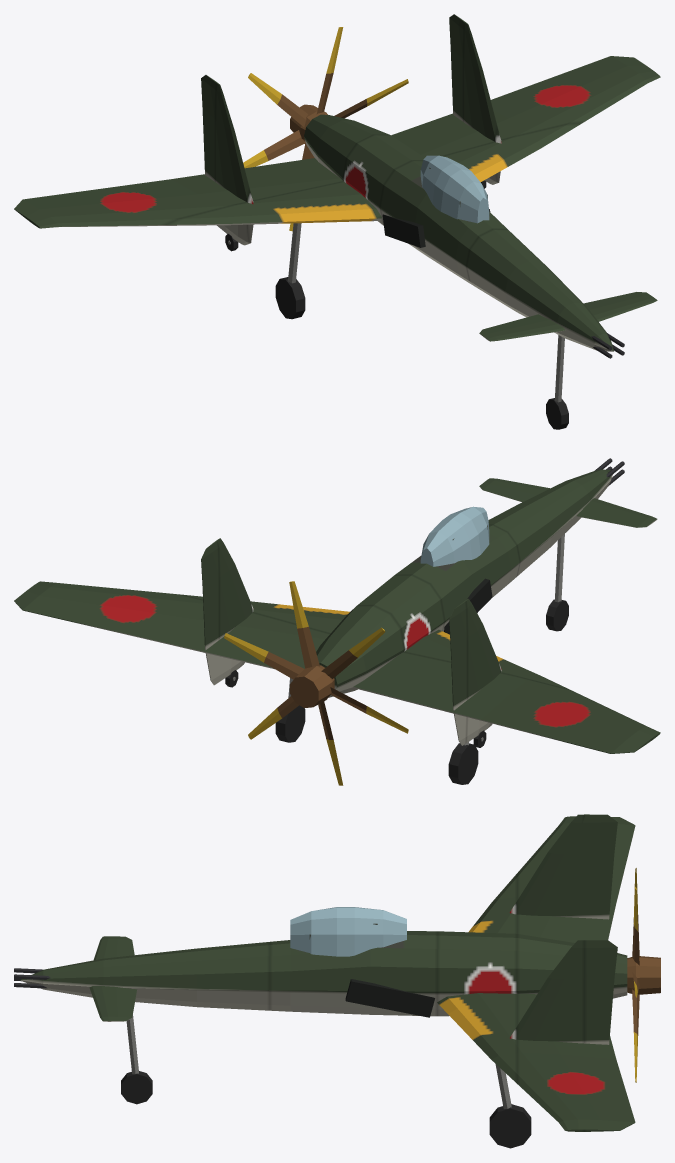
The picture shows the model from 3 angles, top to bottom: view 1: azimuth 30°, elevation 25°; view 2: azimuth 150°, elevation 25°; view 3: azimuth 270°, elevation 25°; orthographic projection. The views are drawn at different scales.
Parts seen in each view (by area): view 1: wing, fuselage, $propeller, canopy, canard, $gear_r, $gear_n; view 2: wing, fuselage, $propeller, canopy, canard, $gear_n, $gear_r, $gear_l; view 3: wing, fuselage, canopy, canard, $propeller, $gear_l, $gear_n.
Boxes of the visible parts, x1,y1,x2,y2 form: wing: [14, 14, 660, 251]; fuselage: [304, 114, 624, 358]; $propeller: [243, 27, 408, 231]; canopy: [420, 155, 489, 223]; canard: [479, 292, 657, 341]; $gear_r: [275, 223, 305, 319]; $gear_n: [546, 335, 568, 429]; wing: [14, 538, 660, 753]; fuselage: [316, 458, 624, 697]; $propeller: [224, 581, 408, 785]; canopy: [420, 506, 489, 566]; canard: [479, 478, 657, 527]; $gear_n: [546, 534, 568, 631]; $gear_r: [448, 742, 478, 784]; $gear_l: [275, 678, 305, 742]; wing: [437, 814, 635, 1131]; fuselage: [14, 923, 627, 1017]; canopy: [290, 907, 406, 956]; canard: [89, 936, 137, 1021]; $propeller: [627, 868, 660, 1082]; $gear_l: [489, 1064, 531, 1148]; $gear_n: [121, 1015, 152, 1104].
Size of the model in its own units: 11.11 by 3.75 by 9.7.
Materials: 1 (1 with a texture image).
